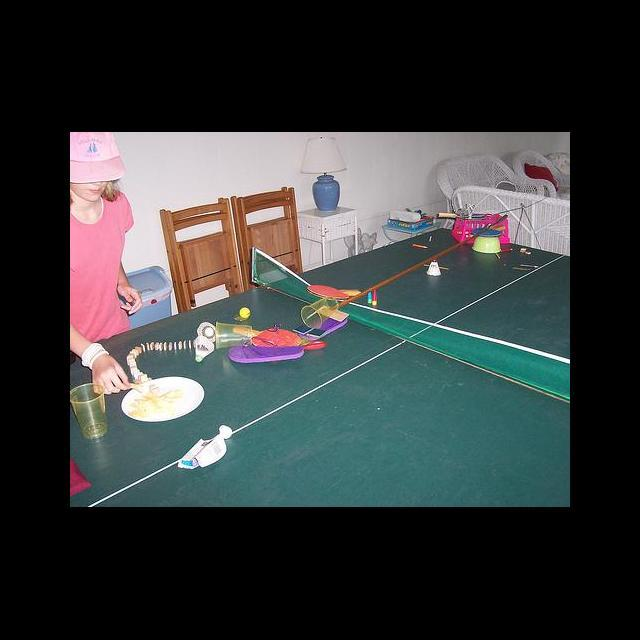ping-pong-ball: (238, 306, 250, 318)
